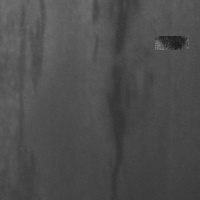inclusion: (106, 2, 142, 196), (11, 1, 48, 148), (87, 1, 106, 66)
patches: (155, 36, 189, 50)
